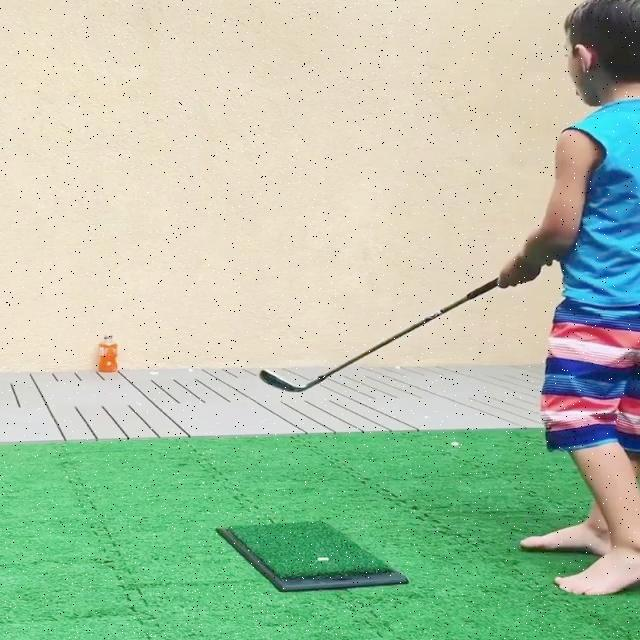ClubHandle: (253, 275, 504, 397)
ClubHead: (257, 365, 297, 392)
